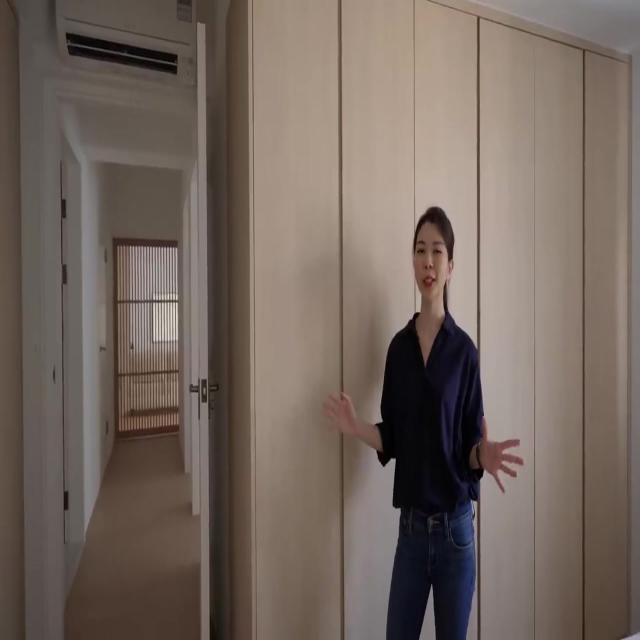person: (322, 205, 524, 639)
